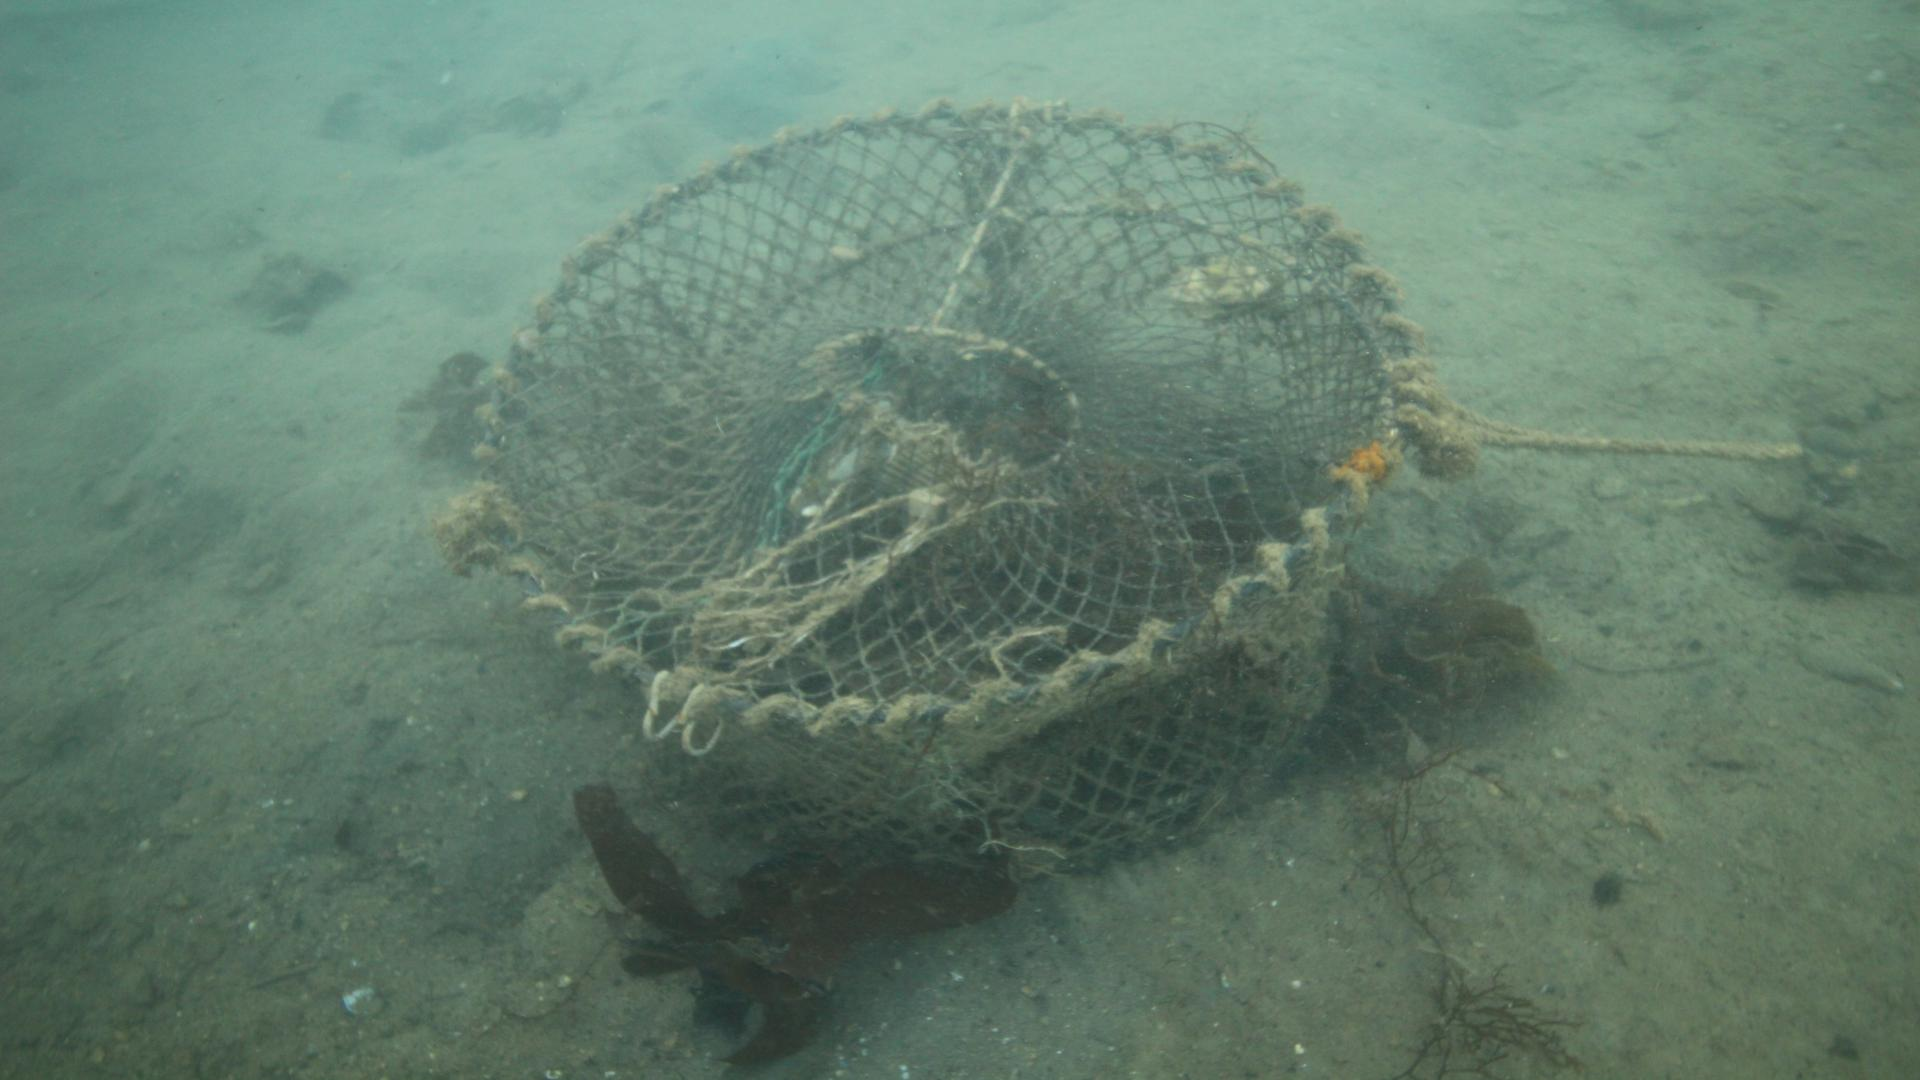bundle of ropes: (1429, 402, 1807, 465)
circular fish trap: (469, 92, 1437, 882)
